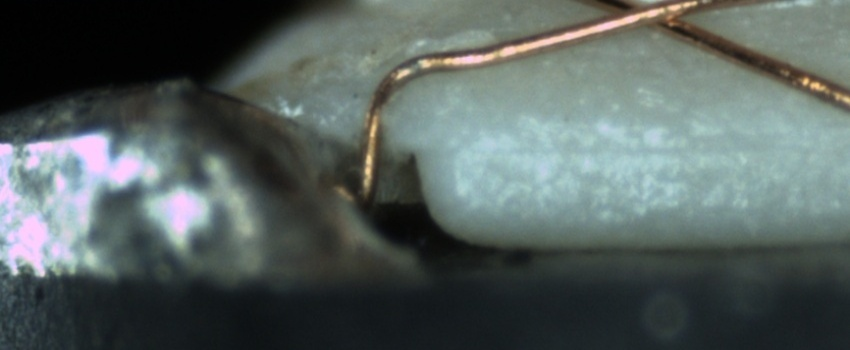CL: (578, 0, 715, 35)
DL: (450, 109, 849, 182)
